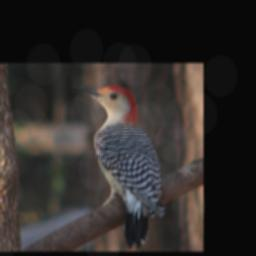Woodpecker: (70, 83, 166, 246)
